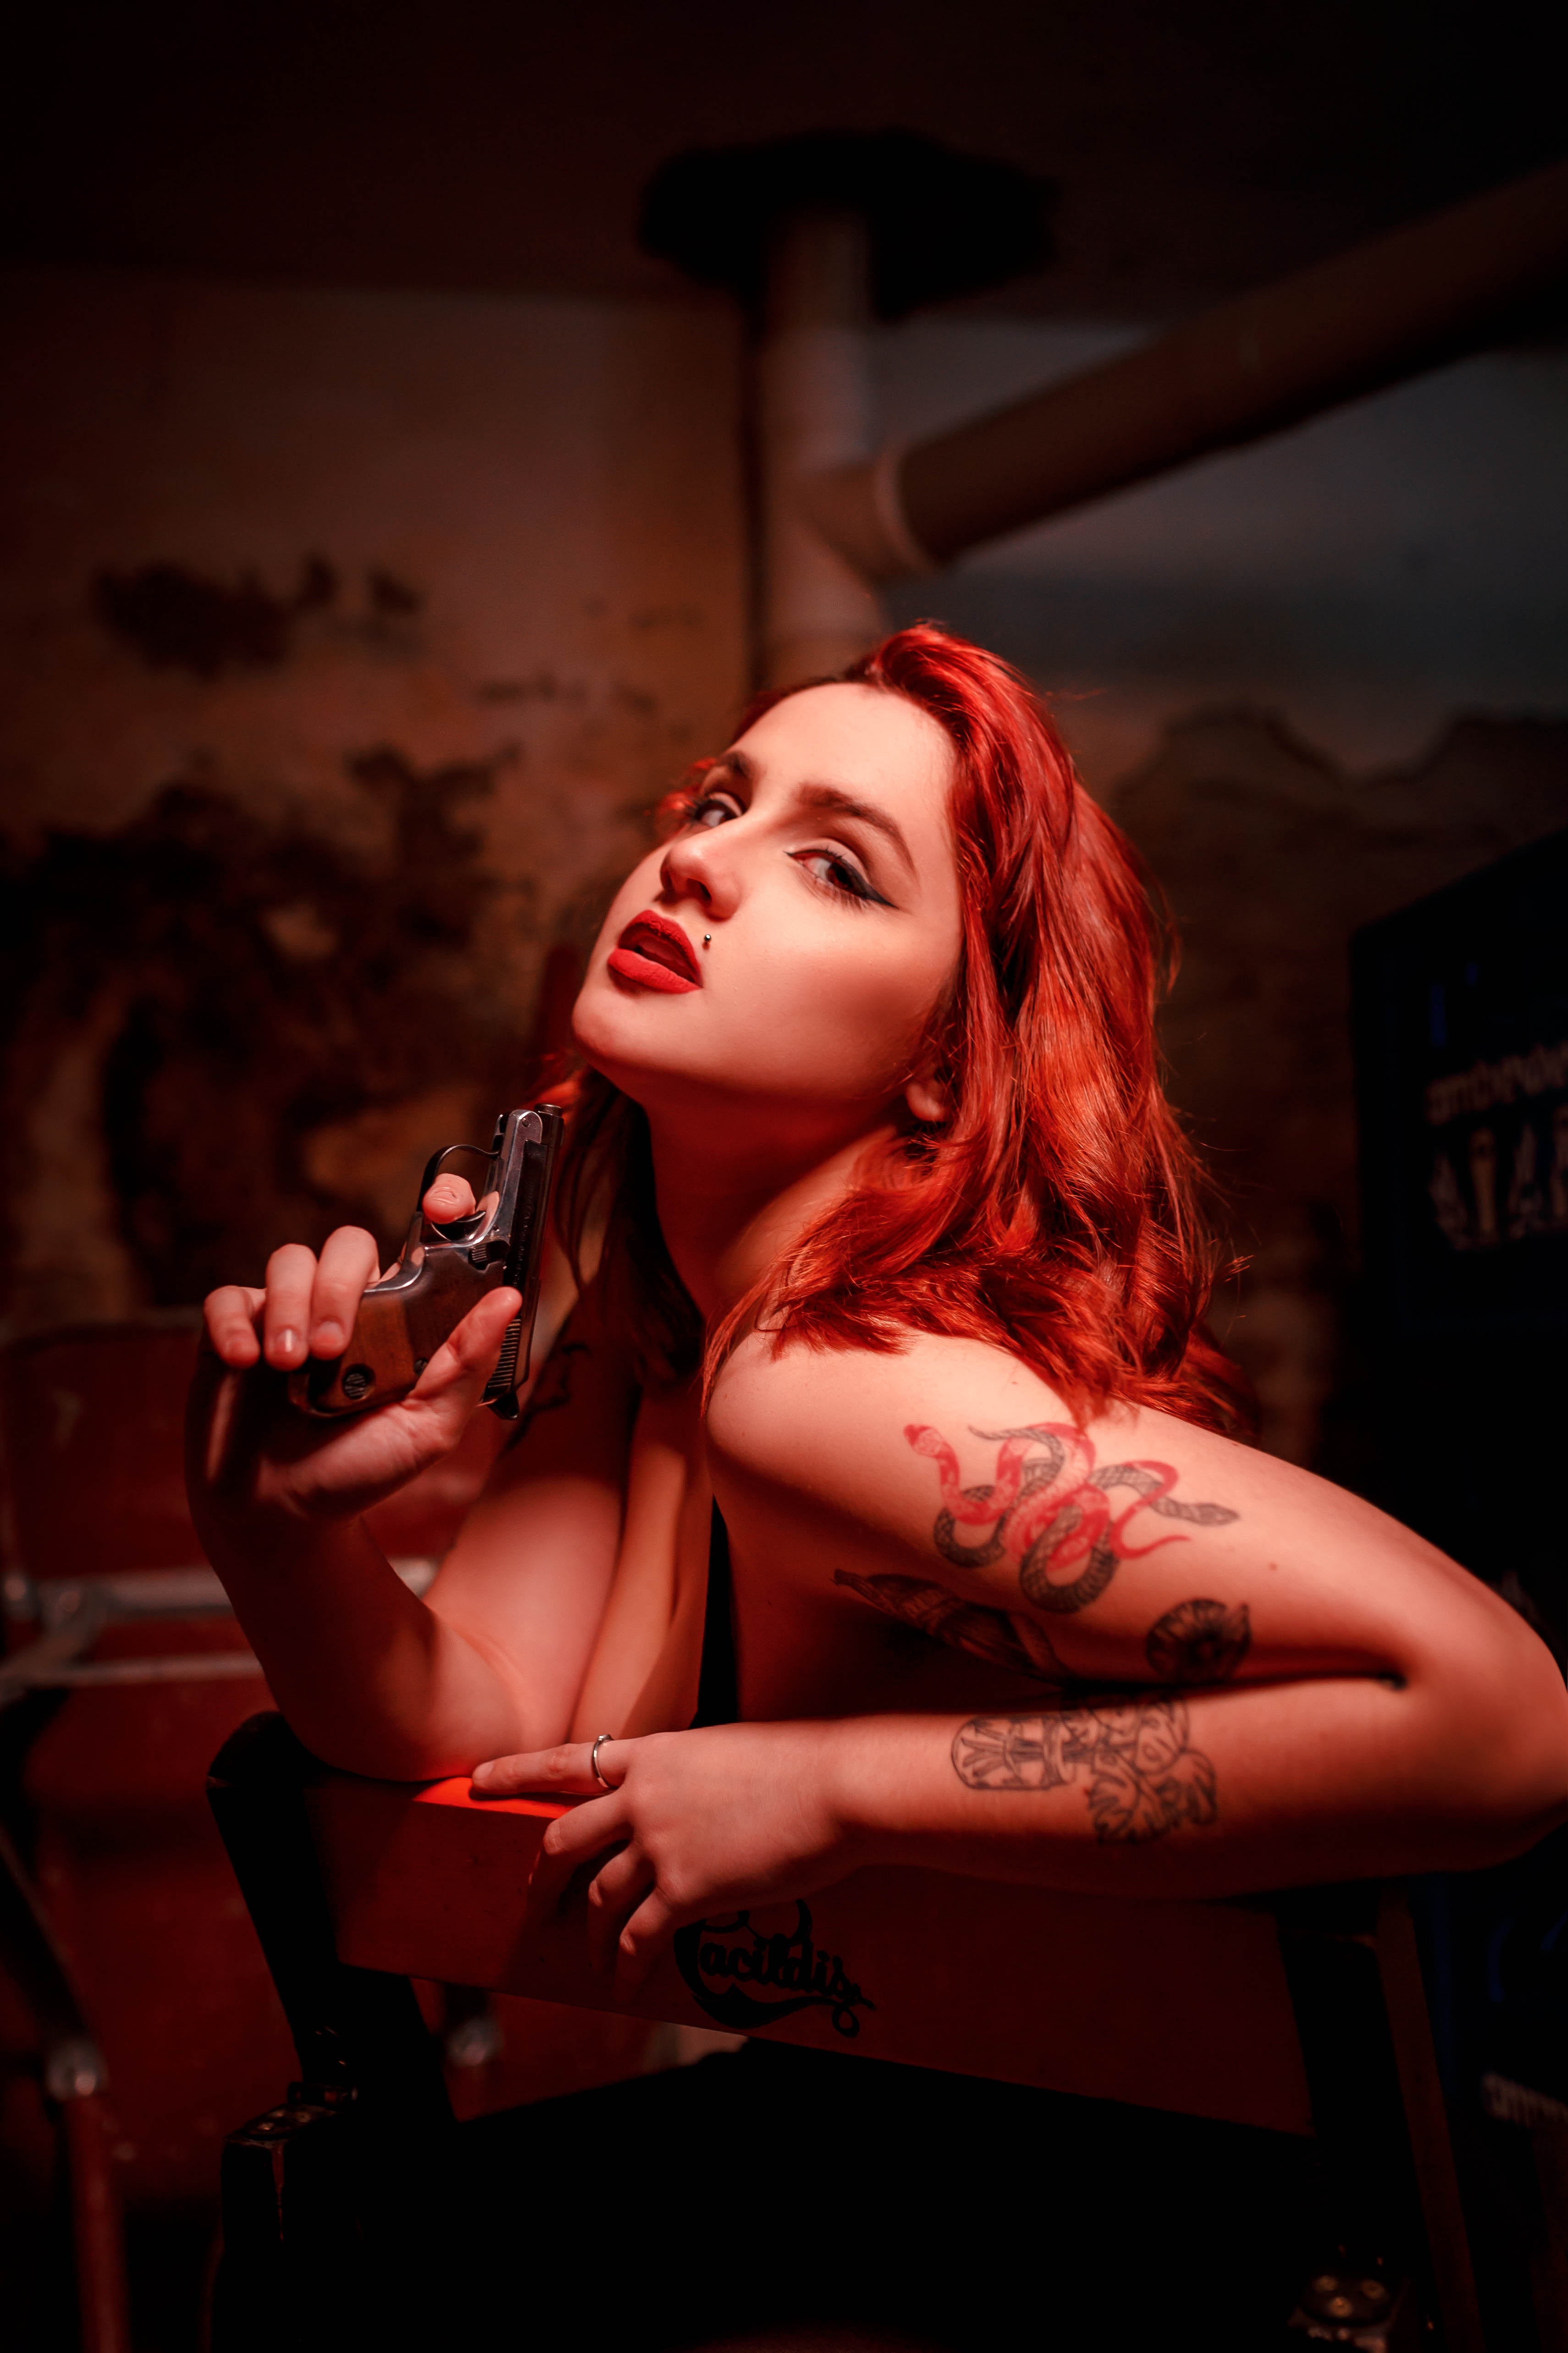gun: (232, 1094, 573, 1437)
person: (172, 624, 1567, 2115)
